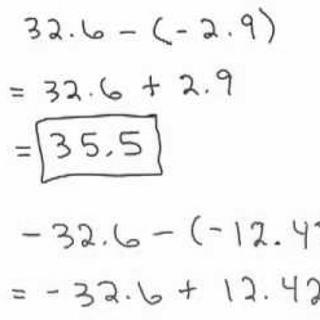.: (65, 26, 75, 45), (222, 27, 236, 40), (201, 83, 213, 98), (269, 236, 281, 251), (120, 289, 132, 303), (261, 289, 269, 303), (87, 87, 93, 105), (99, 240, 108, 252), (105, 150, 114, 161)
1: (219, 274, 240, 308), (231, 216, 244, 246)
2: (235, 269, 260, 306), (172, 68, 199, 102), (96, 277, 123, 309), (243, 219, 269, 252), (76, 216, 98, 254), (43, 10, 64, 49), (194, 10, 218, 42), (61, 77, 84, 105)
3: (44, 218, 73, 255), (45, 129, 72, 163), (18, 10, 44, 45), (70, 275, 96, 310), (37, 73, 62, 108)
4: (276, 271, 303, 305), (291, 212, 312, 250)
5: (118, 122, 147, 161), (77, 128, 101, 160)
6: (132, 274, 165, 307), (97, 71, 126, 108), (109, 220, 141, 252), (78, 16, 106, 43)
9: (216, 65, 237, 102), (236, 7, 257, 42)
